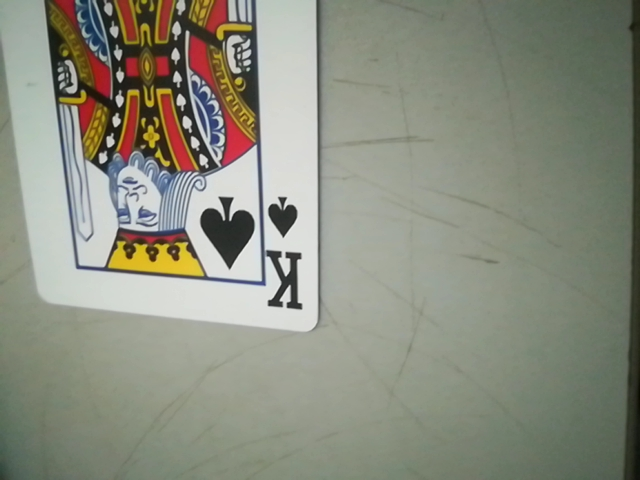ht k: (263, 189, 311, 316)
